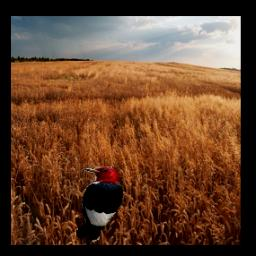Woodpecker: (77, 166, 125, 242)
